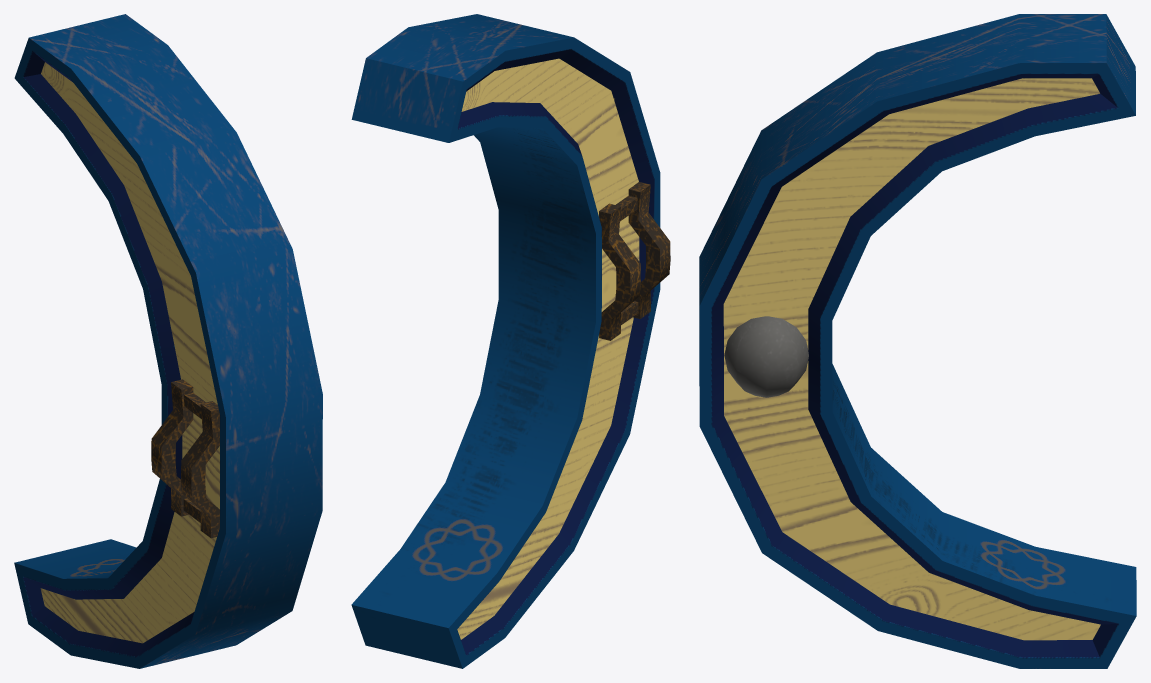
The model's file is moon_shield.dae.
3 views of the same model, side by side, from view 1: azimuth 30°, elevation 25°; view 2: azimuth 150°, elevation 25°; view 3: azimuth 270°, elevation 25° (orthographic). The views are drawn at different scales.
Visible parts, largest first — view 1: Moon_shield_Moon_Shield1_0; view 2: Moon_shield_Moon_Shield1_0; view 3: Moon_shield_Moon_Shield1_0.
Boxes of the visible parts, x1,y1,x2,y2 form: Moon_shield_Moon_Shield1_0: [14, 14, 322, 668]; Moon_shield_Moon_Shield1_0: [351, 14, 670, 668]; Moon_shield_Moon_Shield1_0: [699, 14, 1136, 668].
Size of the model in its own units: 0.4143 by 1.08 by 1.66.
Materials: 1 (1 with a texture image).
